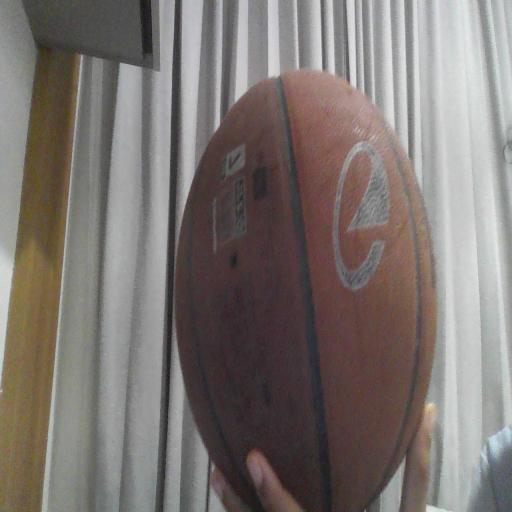basketball: (176, 70, 436, 511)
